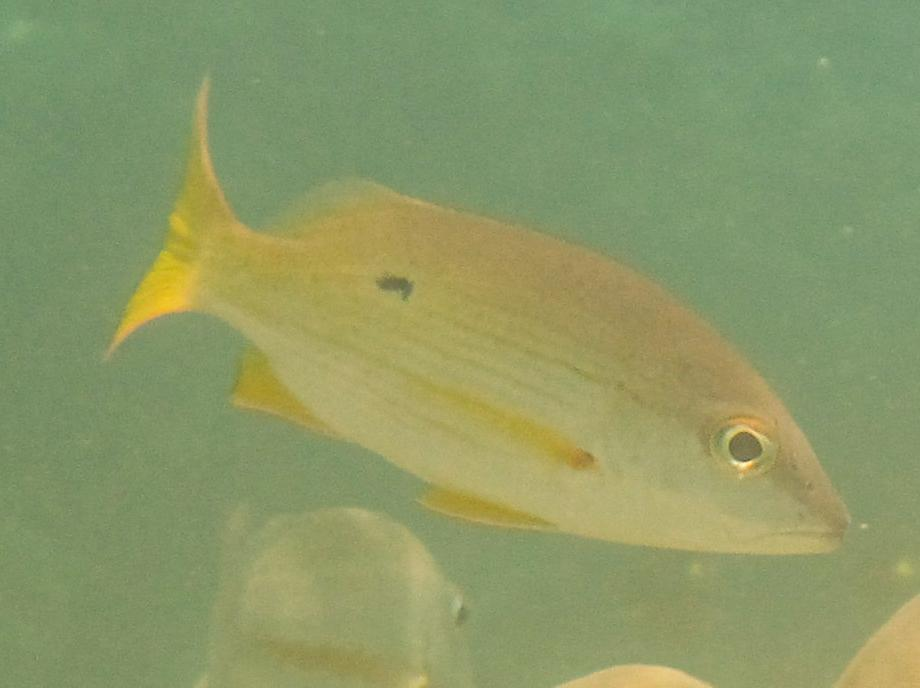Fish: (87, 59, 854, 570)
